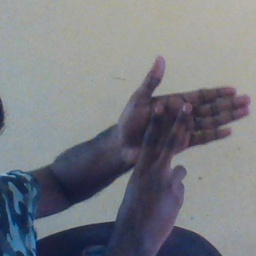N: (113, 51, 253, 201)
